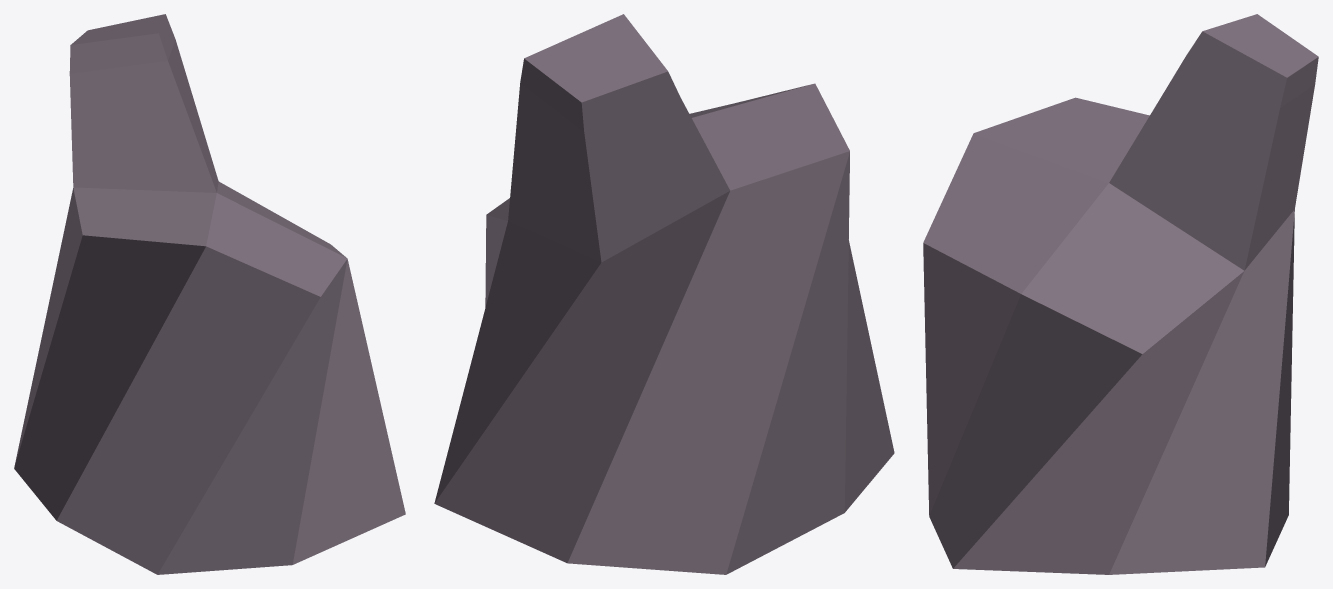
File: Rock_v04.fbx
The picture shows the model from 3 angles, left to right: view 1: azimuth 30°, elevation 25°; view 2: azimuth 150°, elevation 25°; view 3: azimuth 270°, elevation 25°; orthographic projection. The views are drawn at different scales.
Visible parts, largest first — view 1: Rock_v04; view 2: Rock_v04; view 3: Rock_v04.
Boxes of the visible parts, x1,y1,x2,y2 form: Rock_v04: (14, 14, 405, 574); Rock_v04: (434, 14, 894, 574); Rock_v04: (923, 14, 1318, 574).
Bounding box in the file's own units: 13.16 × 18.11 × 13.5.
1 material, 1 textured.
